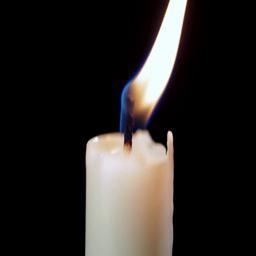fire: (121, 0, 186, 133)
